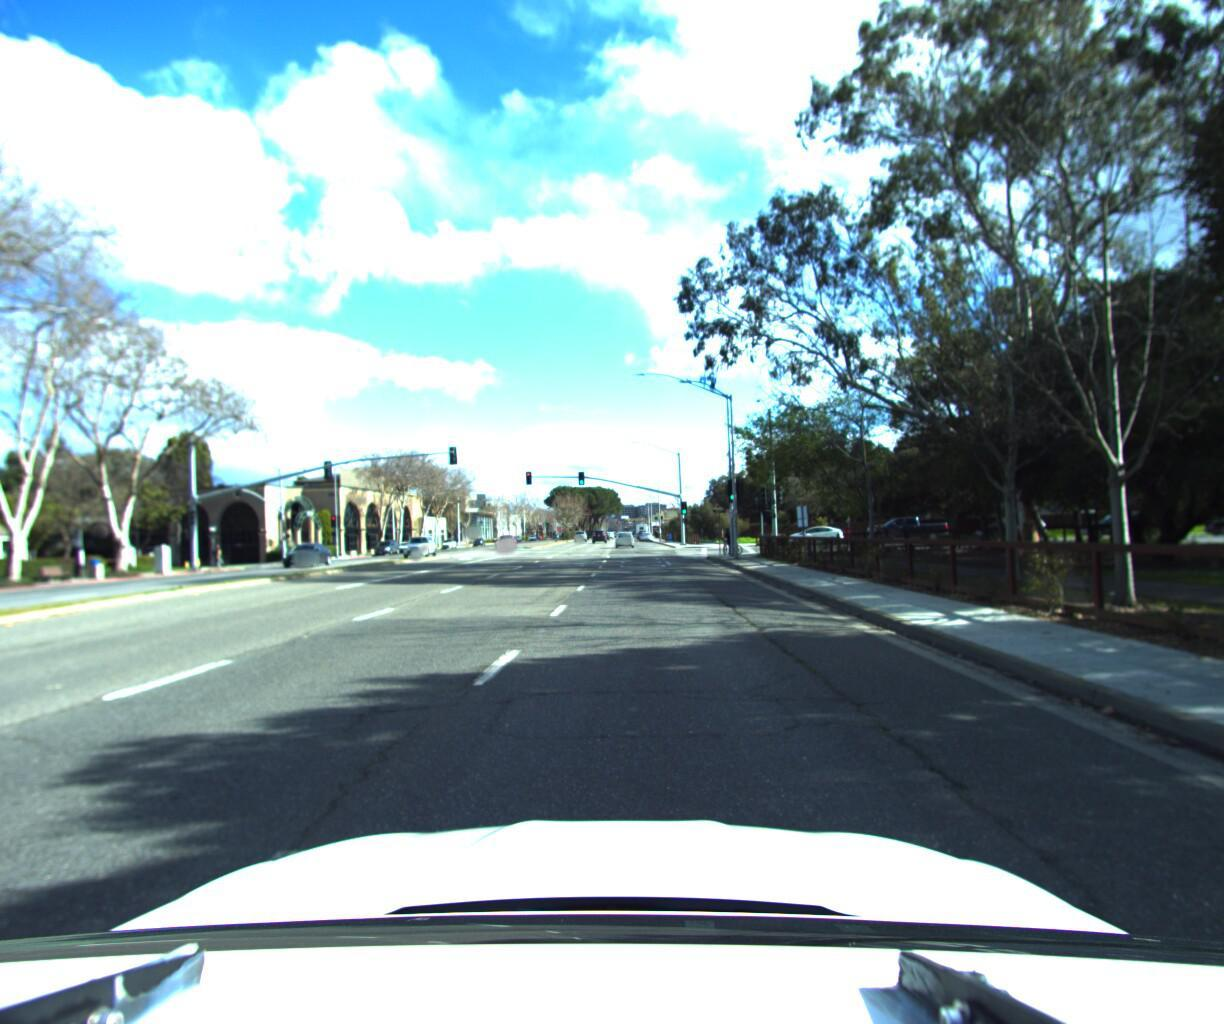bicycle: (715, 522, 743, 550), (202, 542, 234, 567)
car: (862, 510, 948, 539), (278, 539, 336, 573), (783, 520, 842, 541), (399, 531, 439, 556), (493, 531, 518, 547), (614, 527, 634, 545)
